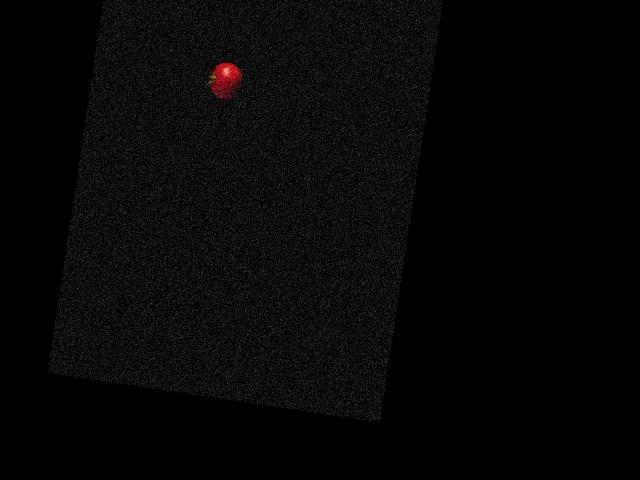tomato: (208, 61, 244, 101)
